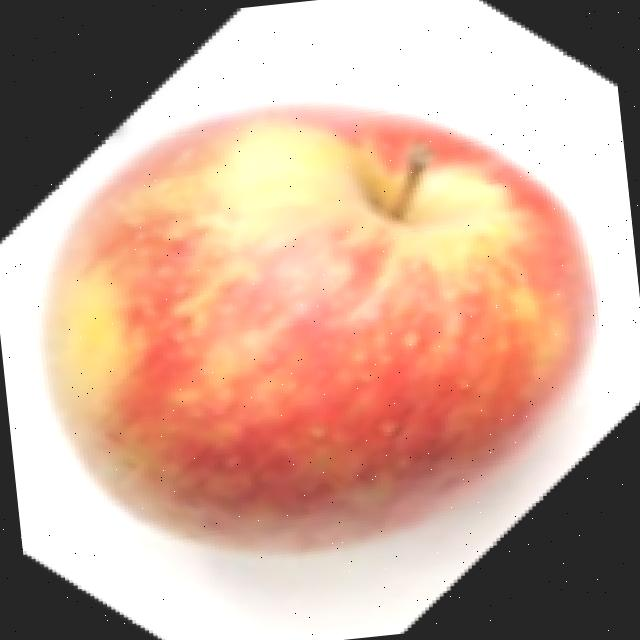Ripe: (8, 67, 623, 587)
